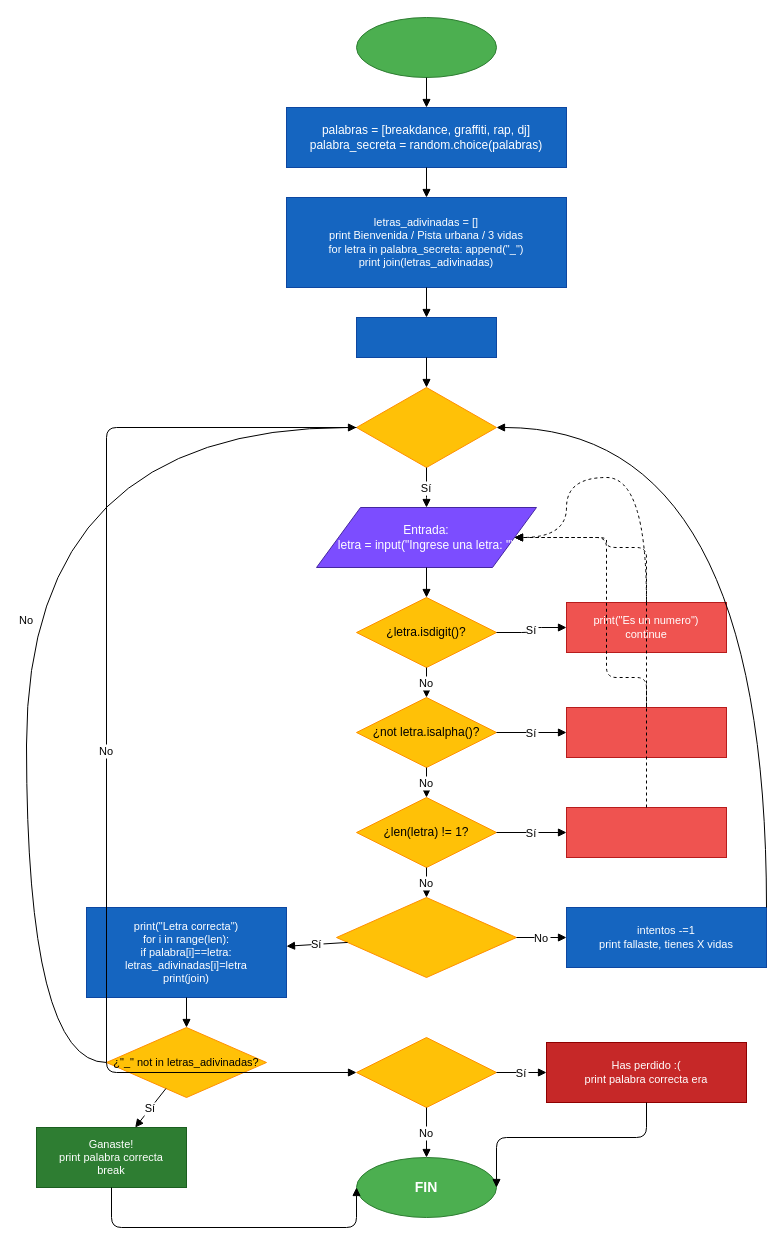
Some shapes in this 784 by 1253 pixel diagram are drawn without their labels. The box of each missing label's shape, as (x1, y1, x2, y2) in pixels:
INICIO import random: (356, 16, 496, 78)
intentos = 3: (356, 316, 496, 358)
print("Es un caracter") continue: (566, 706, 726, 758)
print("Solo una letra") continue: (566, 806, 726, 858)
¿intentos == 0?: (356, 1036, 496, 1108)
¿intentos > 0?: (356, 386, 496, 468)
¿letra in palabra_secreta?: (336, 896, 516, 978)
